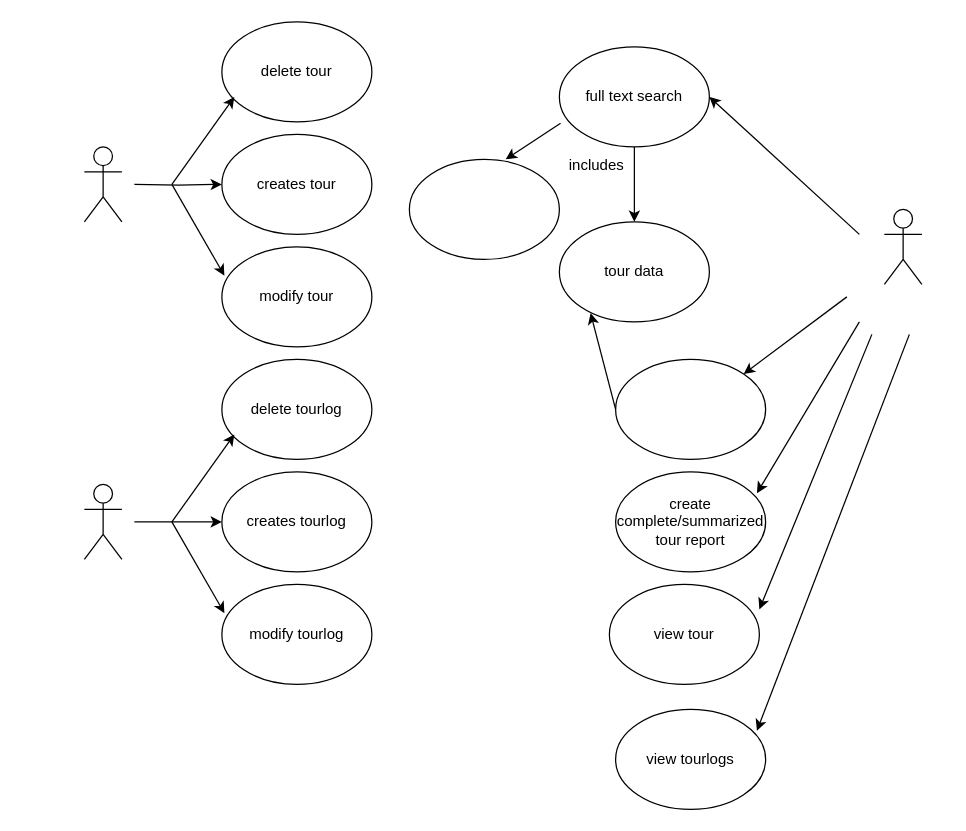
Some shapes in this 966 by 831 pixel diagram are drawn without their labels. The shapes that lost their labels are listed below. From the top down, each one's centre as x and y in pixels, then its label:
At pixel 102 184: "dataClasses.Tour author".
At pixel 483 208: "tour logs data".
At pixel 902 246: "general user".
At pixel 690 408: "import/export tours".
At pixel 102 521: "dataClasses.Tour logger".
